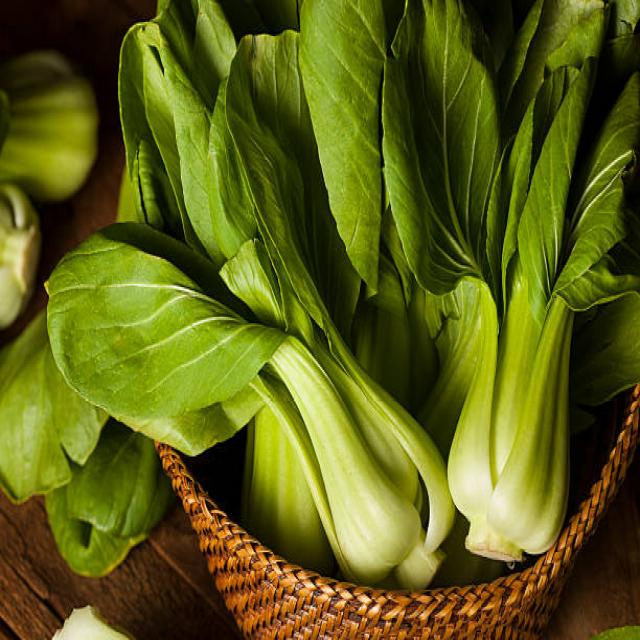Bok Choy: (464, 87, 603, 558), (217, 312, 441, 589)
